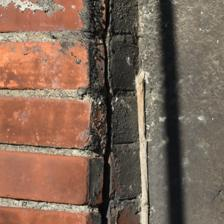Crack: (97, 5, 117, 221)
